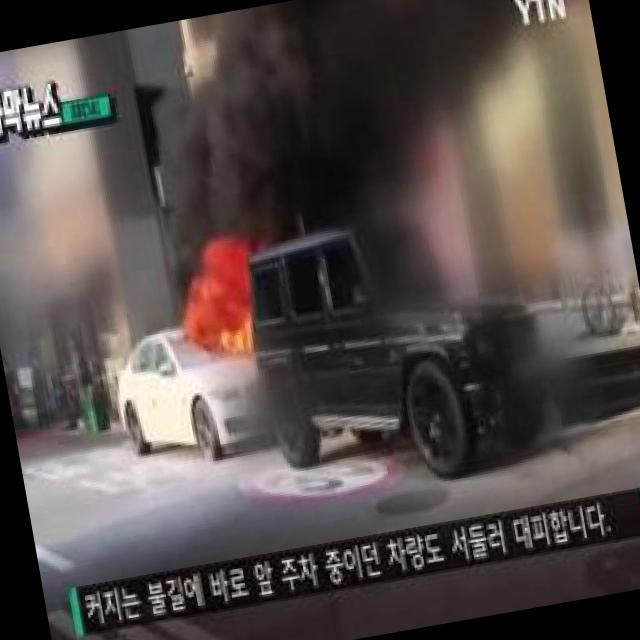Fire: (186, 234, 258, 356)
Smoke: (114, 0, 353, 242)
